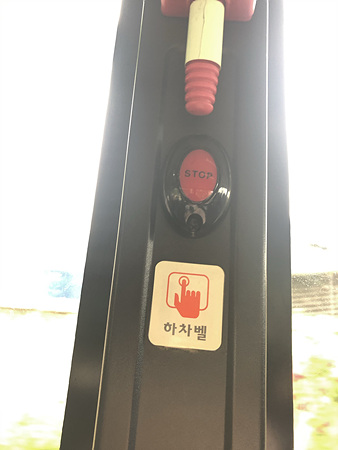bell: (163, 134, 231, 235)
